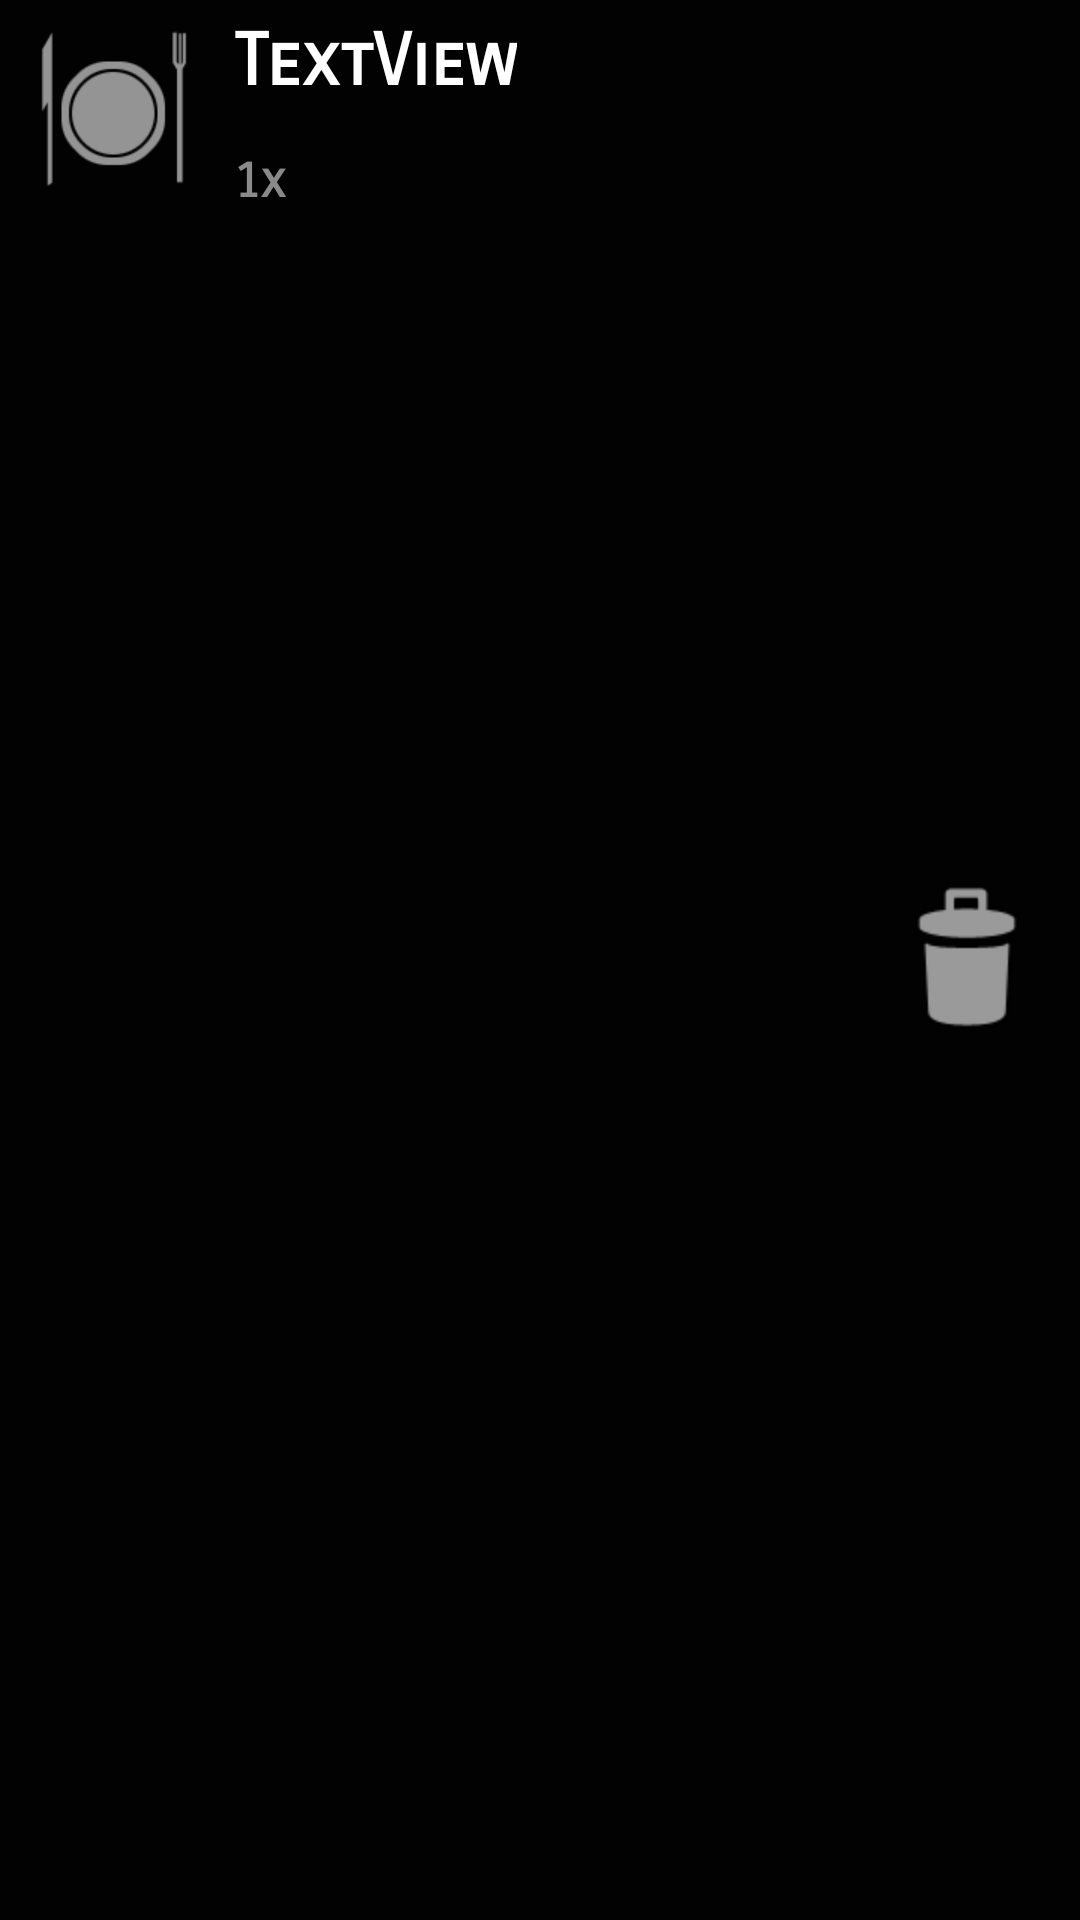

Icon bounding boxes for this 1080w x 1920h phone screenshot, format (x1, y1, x2, y2):
delete: (918, 888, 1016, 1026)
restaurant: (42, 32, 186, 186)
